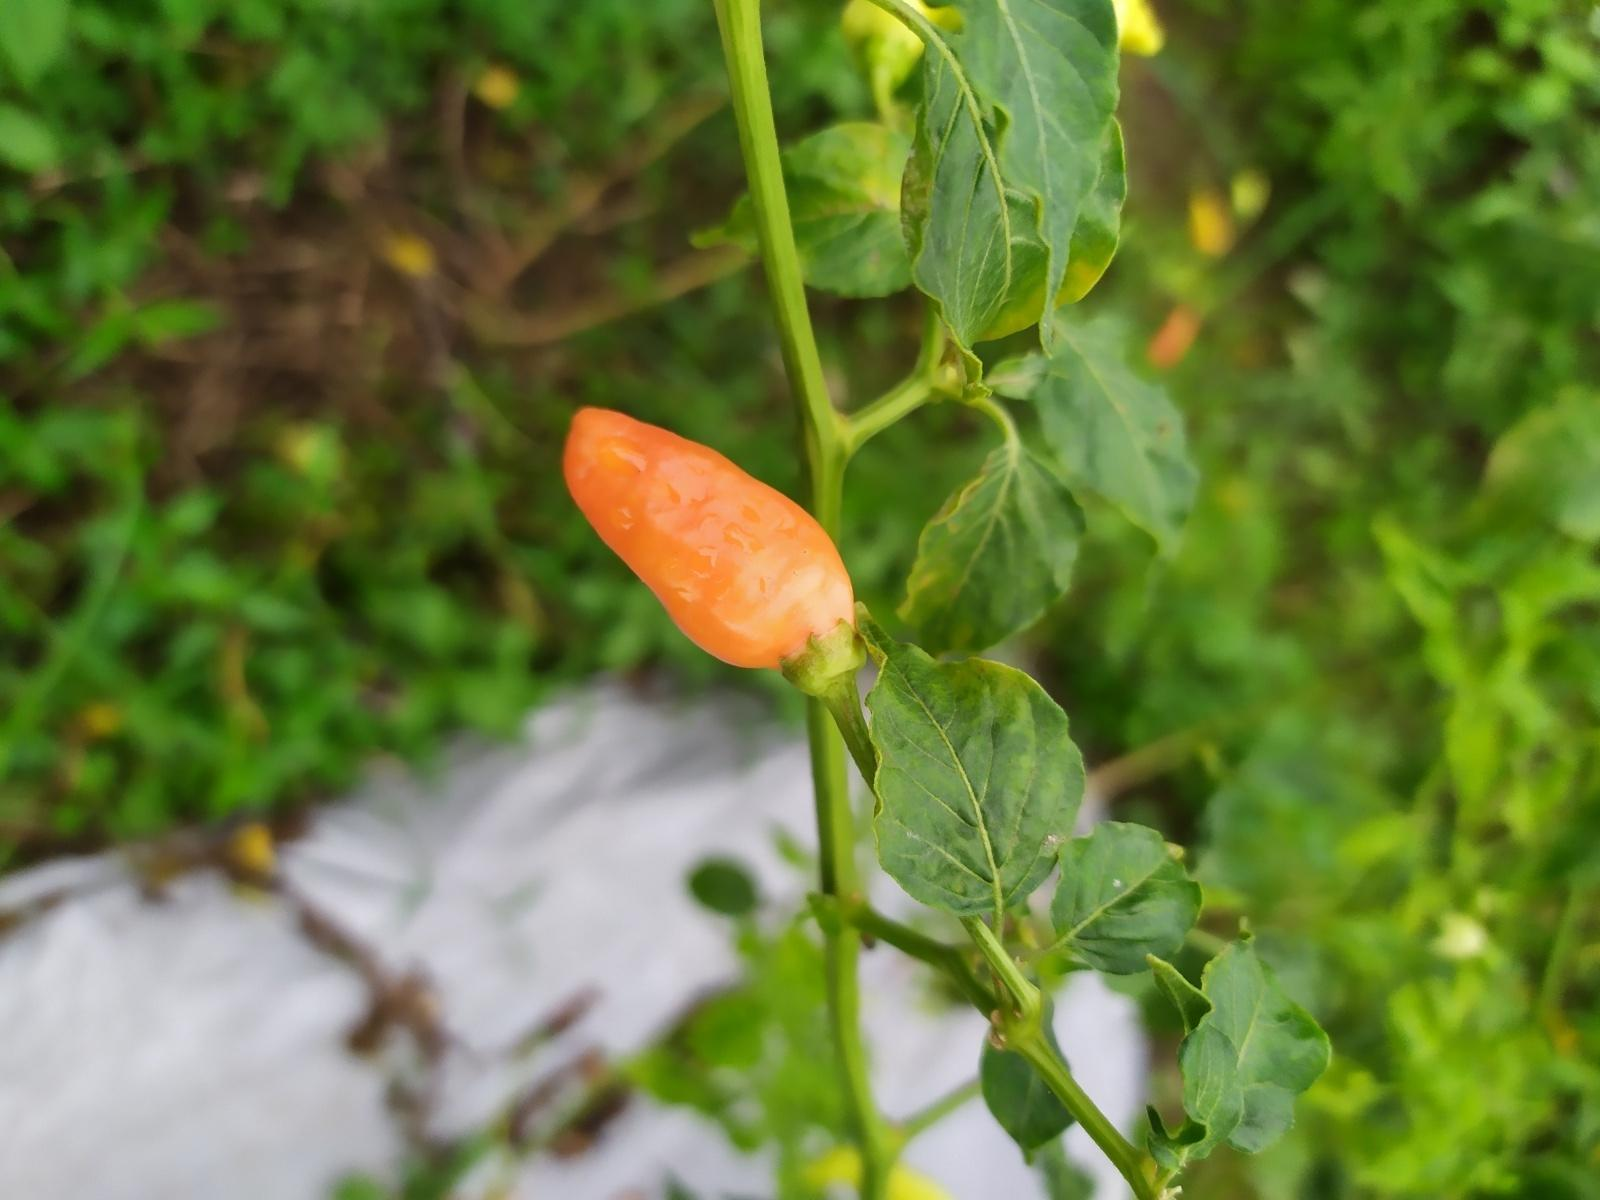cabai_normal: (563, 405, 857, 695)
